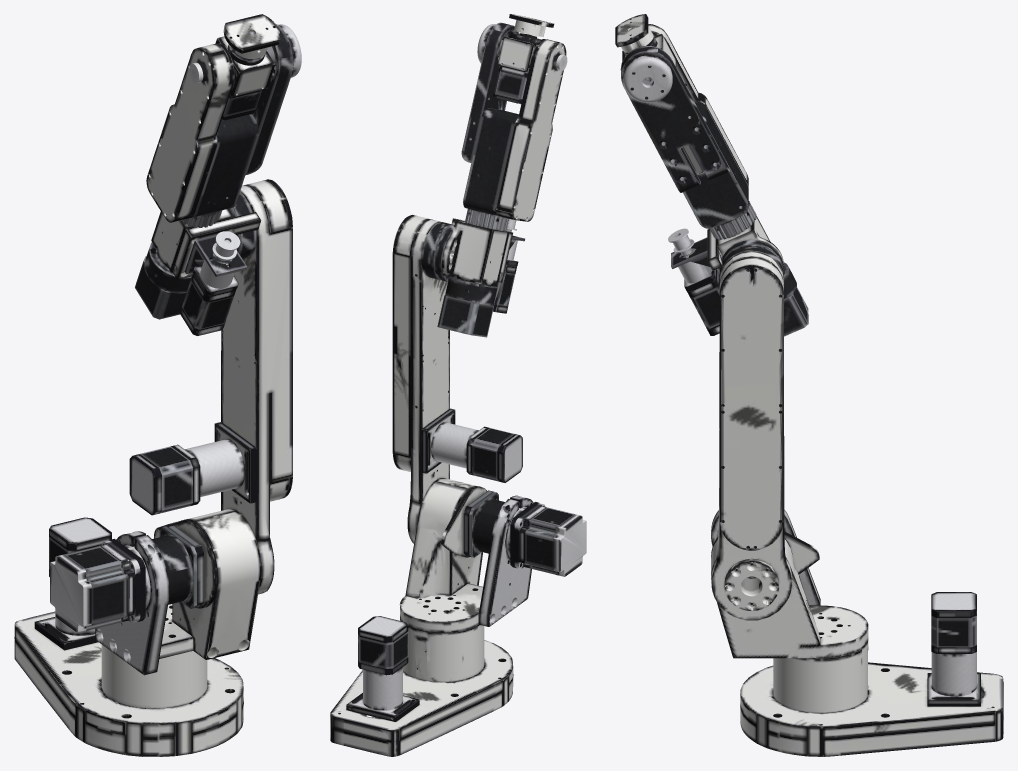
File: robot.glb
3 renders of one model, left to right at view 1: azimuth 30°, elevation 25°; view 2: azimuth 150°, elevation 25°; view 3: azimuth 270°, elevation 25°, orthographic. The views are drawn at different scales.
Visible parts, largest first — view 1: link_2__pla_yellow, base_link__pla_yellow, link_4__hw_black, link_1__pla_yellow, link_4__pla_yellow, link_1__aluminum, link_1__motor_stack, link_2__steel, link_1__steel, link_3__pla_yellow, base_link__steel, link_2__aluminum (+10 smaller); view 2: link_2__pla_yellow, base_link__pla_yellow, link_4__hw_black, link_1__pla_yellow, link_4__pla_yellow, link_1__aluminum, link_3__pla_yellow, link_1__motor_stack, link_2__steel, base_link__steel, link_1__steel, base_link__aluminum (+10 smaller); view 3: link_2__pla_yellow, base_link__pla_yellow, link_4__hw_black, link_1__pla_yellow, base_link__steel, link_5__aluminum, base_link__aluminum, base_link__motor_stack, link_3__aluminum, link_4__pla_yellow, link_3__pla_yellow, link_6__pla_yellow (+3 smaller).
Boxes of the visible parts, x1,y1,x2,y2 form: link_2__pla_yellow: (154,179,292,608); base_link__pla_yellow: (14,611,243,756); link_4__hw_black: (135,24,293,319); link_1__pla_yellow: (159,509,261,659); link_4__pla_yellow: (146,43,234,222); link_1__aluminum: (95,524,203,675); link_1__motor_stack: (64,526,196,630); link_2__steel: (129,422,256,515); link_1__steel: (50,544,134,632); link_3__pla_yellow: (151,209,261,279); base_link__steel: (34,517,111,650); link_2__aluminum: (185,439,244,496); link_2__pla_yellow: (392,214,486,557); base_link__pla_yellow: (330,617,513,756); link_4__hw_black: (437,22,518,337); link_1__pla_yellow: (399,478,482,633); link_4__pla_yellow: (496,39,566,221); link_1__aluminum: (463,490,545,626); link_3__pla_yellow: (442,218,512,285); link_1__motor_stack: (469,491,574,575); link_2__steel: (421,408,522,482); base_link__steel: (346,616,419,721); link_1__steel: (519,506,586,576); base_link__aluminum: (363,667,402,718); link_2__pla_yellow: (711,251,819,620); base_link__pla_yellow: (740,640,1003,756); link_4__hw_black: (620,46,808,336); link_1__pla_yellow: (711,537,868,658); base_link__steel: (927,592,980,706); link_5__aluminum: (623,55,672,102); base_link__aluminum: (931,652,976,696); base_link__motor_stack: (931,616,976,647); link_3__aluminum: (668,228,716,291); link_4__pla_yellow: (648,24,748,186); link_3__pla_yellow: (707,216,783,270); link_6__pla_yellow: (615,14,653,52).
Bounding box in the file's own units: 0.2019 × 0.7153 × 0.361.
5 materials, 5 textured.
